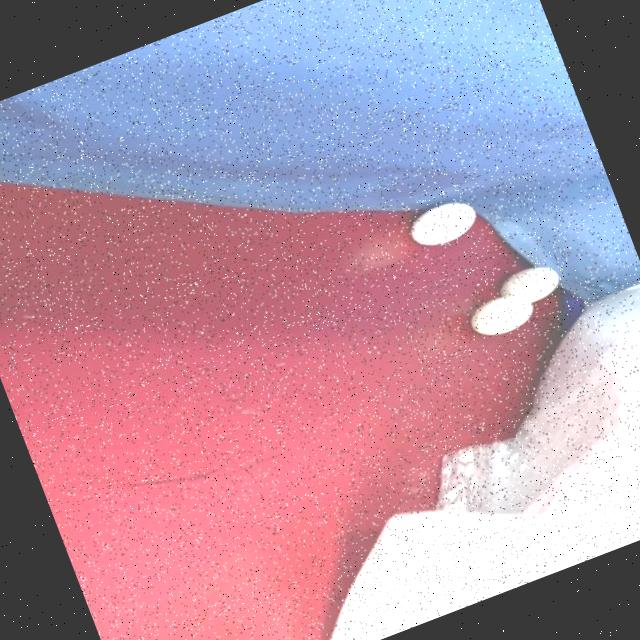ping-pong-ball: (398, 190, 486, 257), (460, 284, 538, 345)
